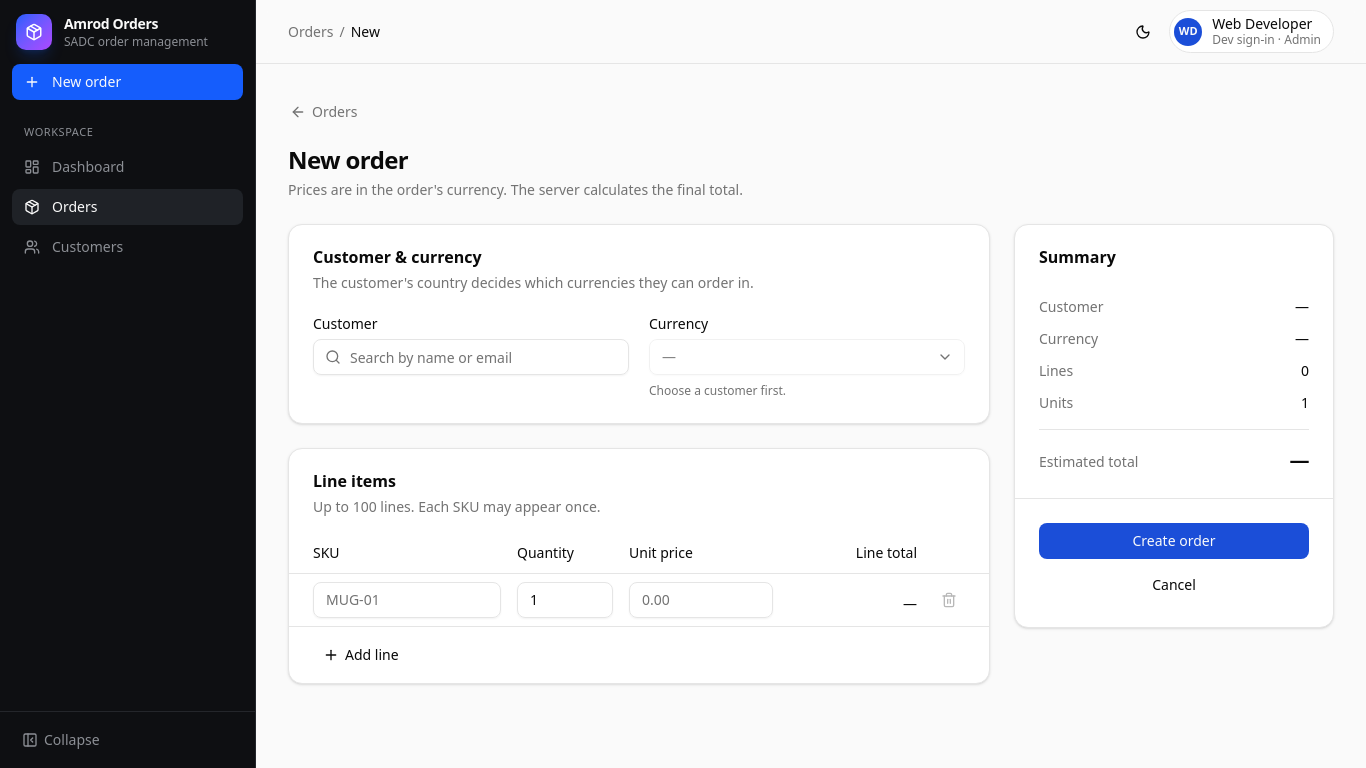
New order form › closes the customer results on Escape and on a click outside
Type "Thandi" into the search field labelled "Customer".
click(471, 357); type("Thandi")  # box [313,339,629,375]
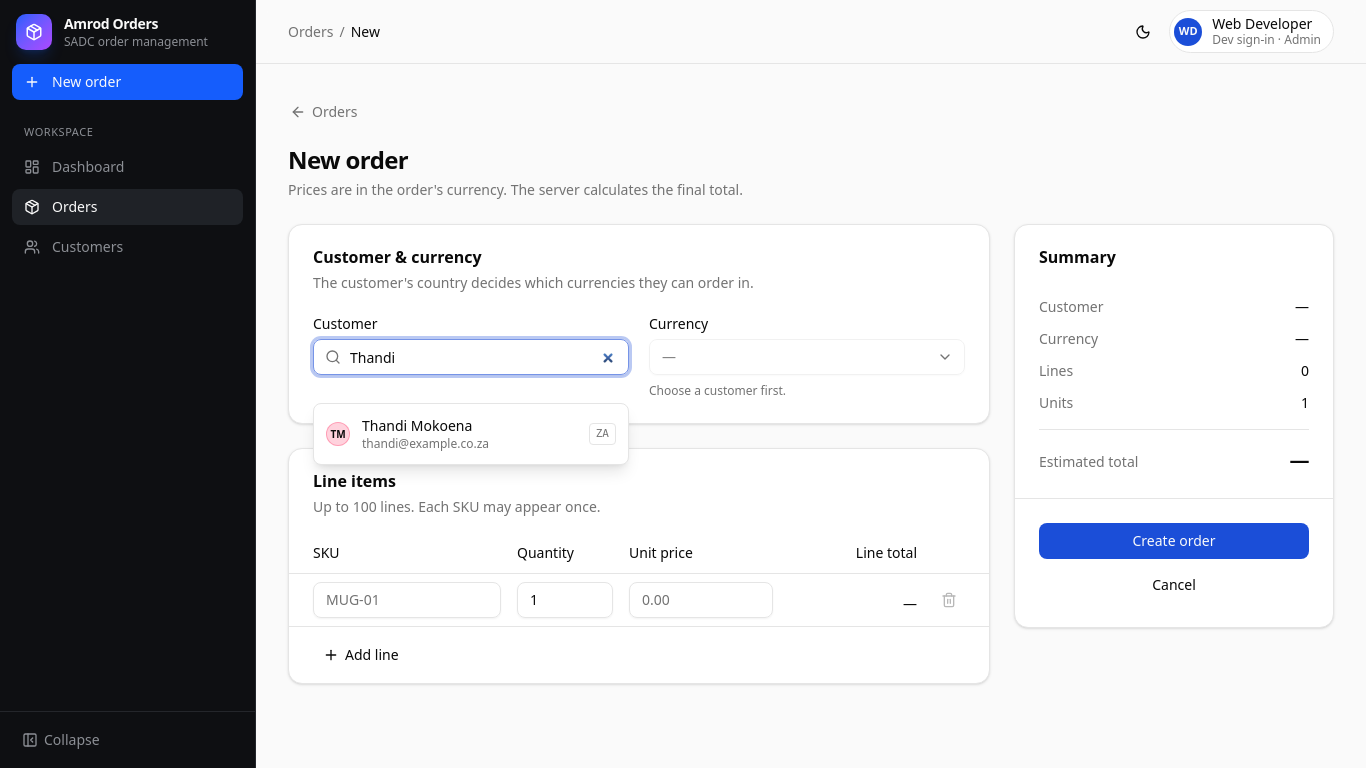
Now the button "TM Thandi Mokoena thandi@example.co.za ZA" is shown, box [318,408,624,460]
Press Escape
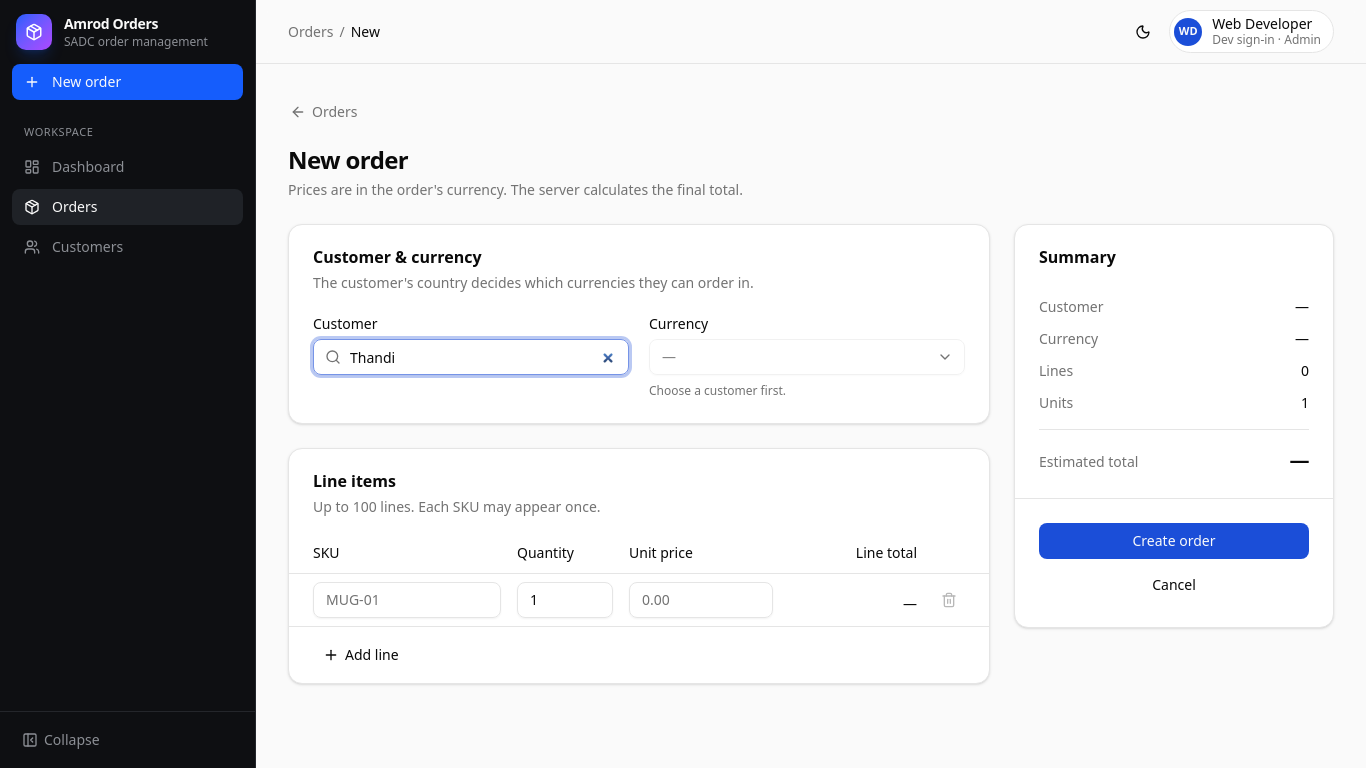
Now the button "Thandi Mokoena" is gone
Click the search field labelled "Customer".
click(471, 357)  # box [313,339,629,375]
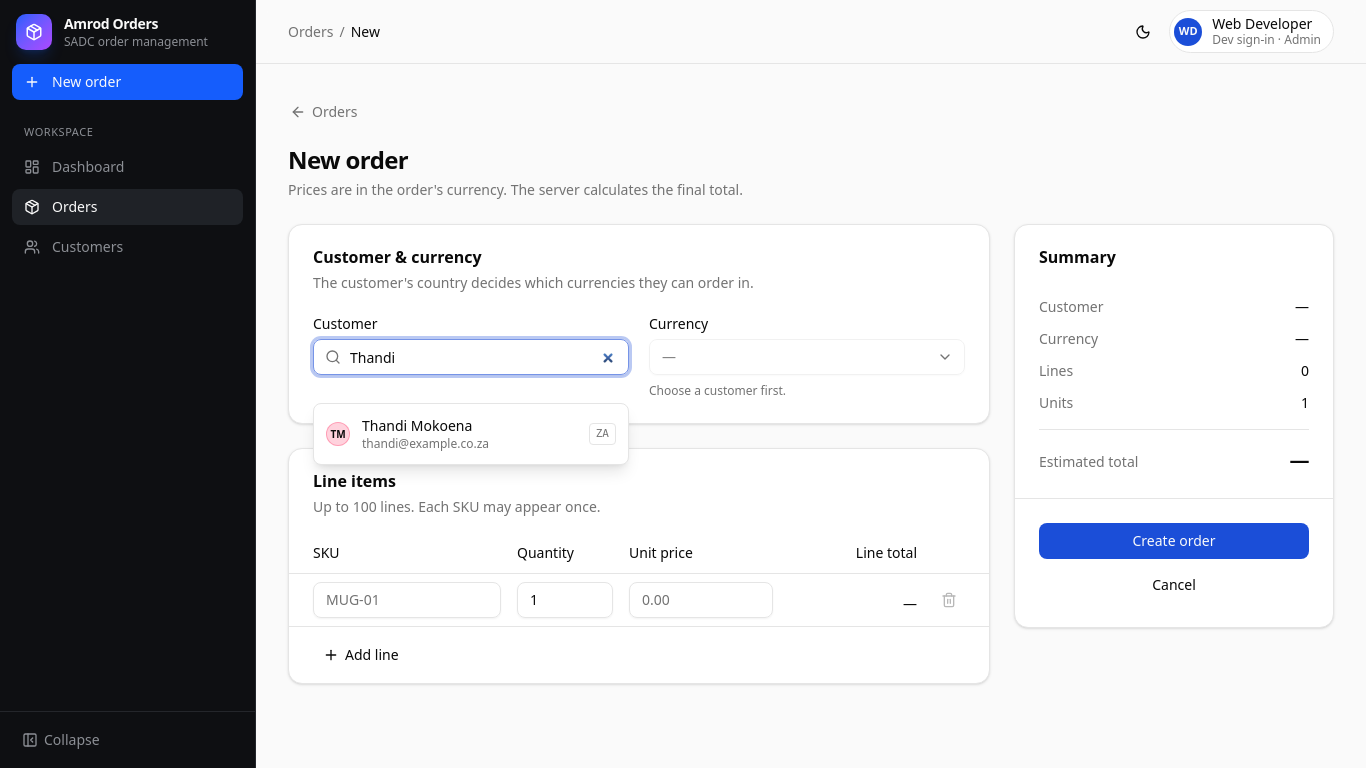
Now the button "TM Thandi Mokoena thandi@example.co.za ZA" is shown, box [318,408,624,460]
Click the heading "New order".
click(348, 160)  # box [288,143,408,176]
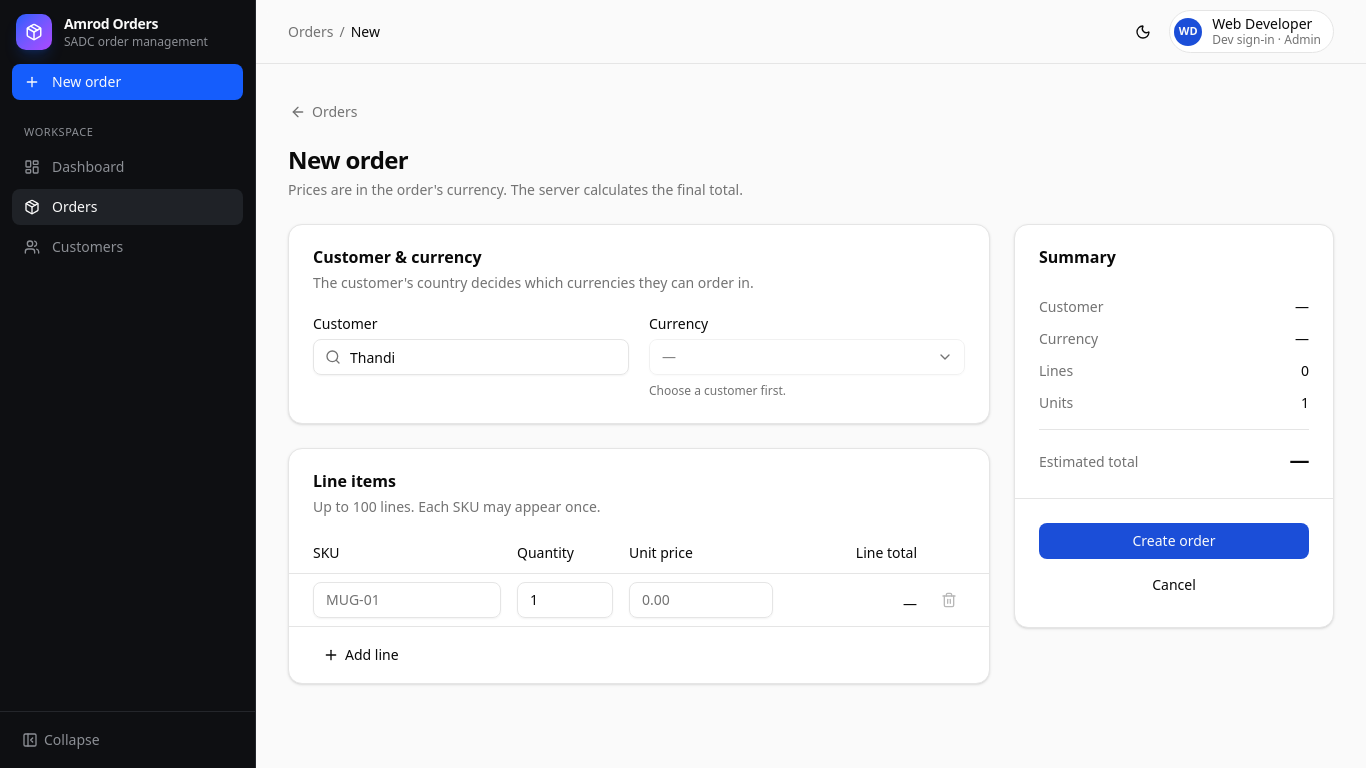
Now the button "Thandi Mokoena" is gone
